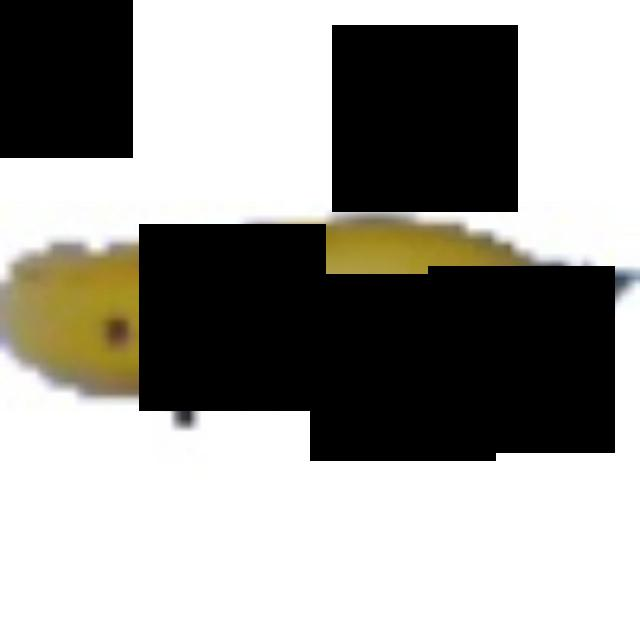banana: (0, 212, 635, 391)
